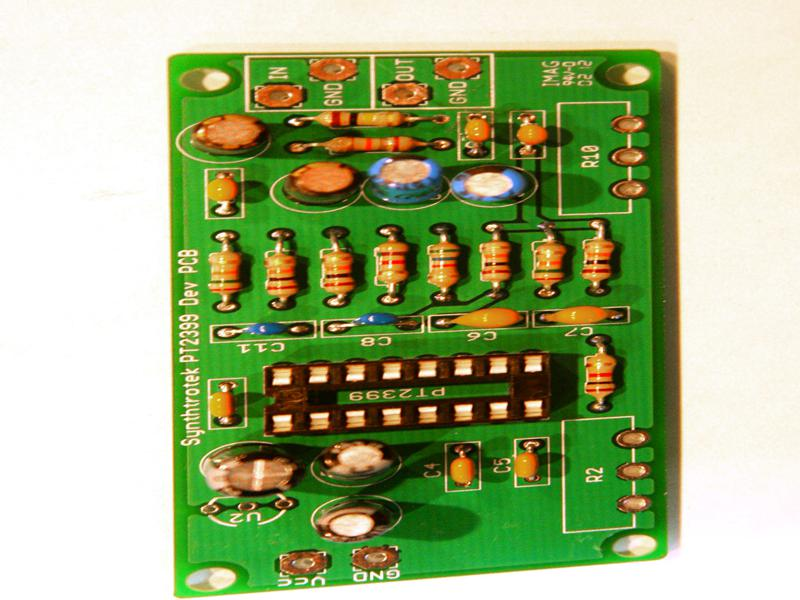Capacitor: (196, 441, 306, 501), (306, 437, 402, 488), (364, 154, 448, 208), (310, 498, 402, 544), (447, 163, 536, 209), (279, 161, 363, 208), (188, 112, 271, 159)
Resistor: (312, 132, 426, 158), (307, 106, 412, 129), (259, 247, 301, 301), (422, 237, 462, 293), (206, 245, 244, 303), (373, 238, 412, 293), (579, 234, 619, 286), (319, 244, 356, 298), (581, 346, 618, 400), (530, 236, 567, 288), (476, 237, 514, 287)
